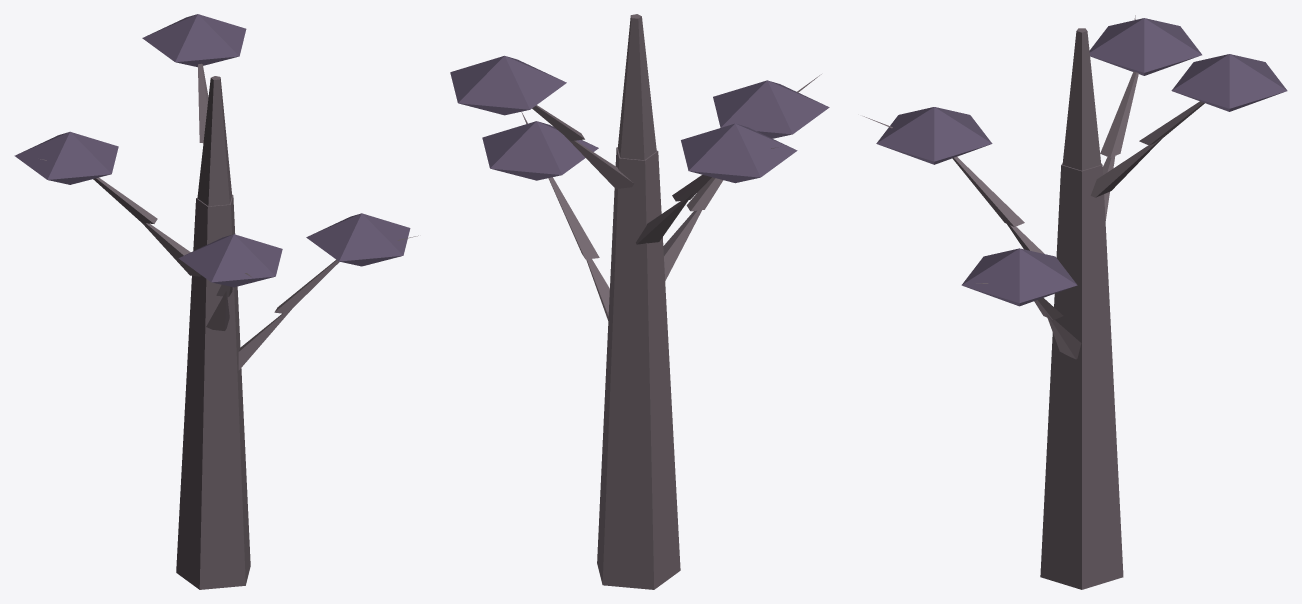
The model's file is prop_dead.glb.
3 views of the same model, side by side, from view 1: azimuth 30°, elevation 25°; view 2: azimuth 150°, elevation 25°; view 3: azimuth 270°, elevation 25° (orthographic). The views are drawn at different scales.
Visible parts, largest first — view 1: body, body2; view 2: body, body2; view 3: body, body2.
Boxes of the visible parts, x1,y1,x2,y2 form: body: (40,63,418,589); body2: (14,14,410,287); body: (521,14,821,589); body2: (450,55,829,183); body: (863,15,1204,589); body2: (876,18,1287,306).
Bounding box in the file's own units: 2.79 × 4.12 × 2.95.
